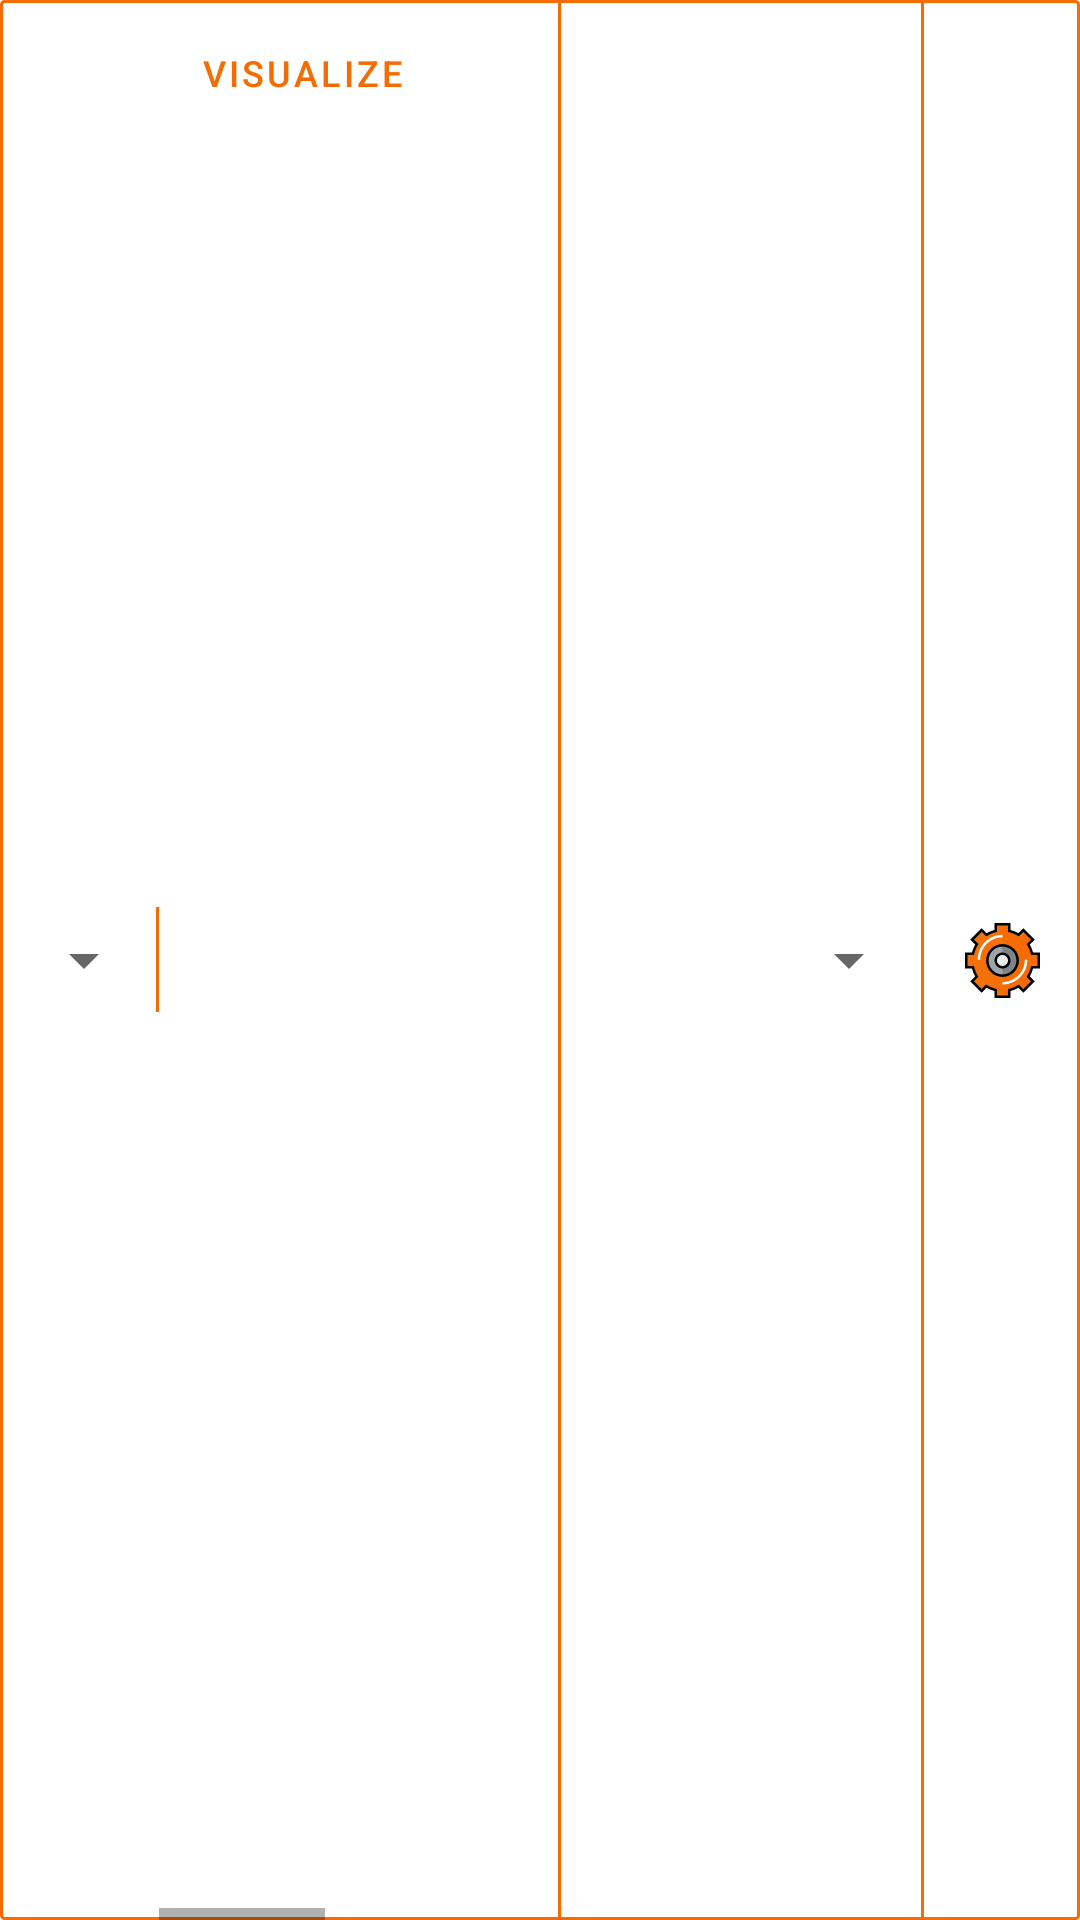

Icons on this 1080px x 1920px Android screen, each with its box as [x1,y1,x2,y2]:
config: [965,923,1040,998]
